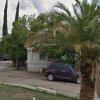Tree: (41, 3, 100, 55)
